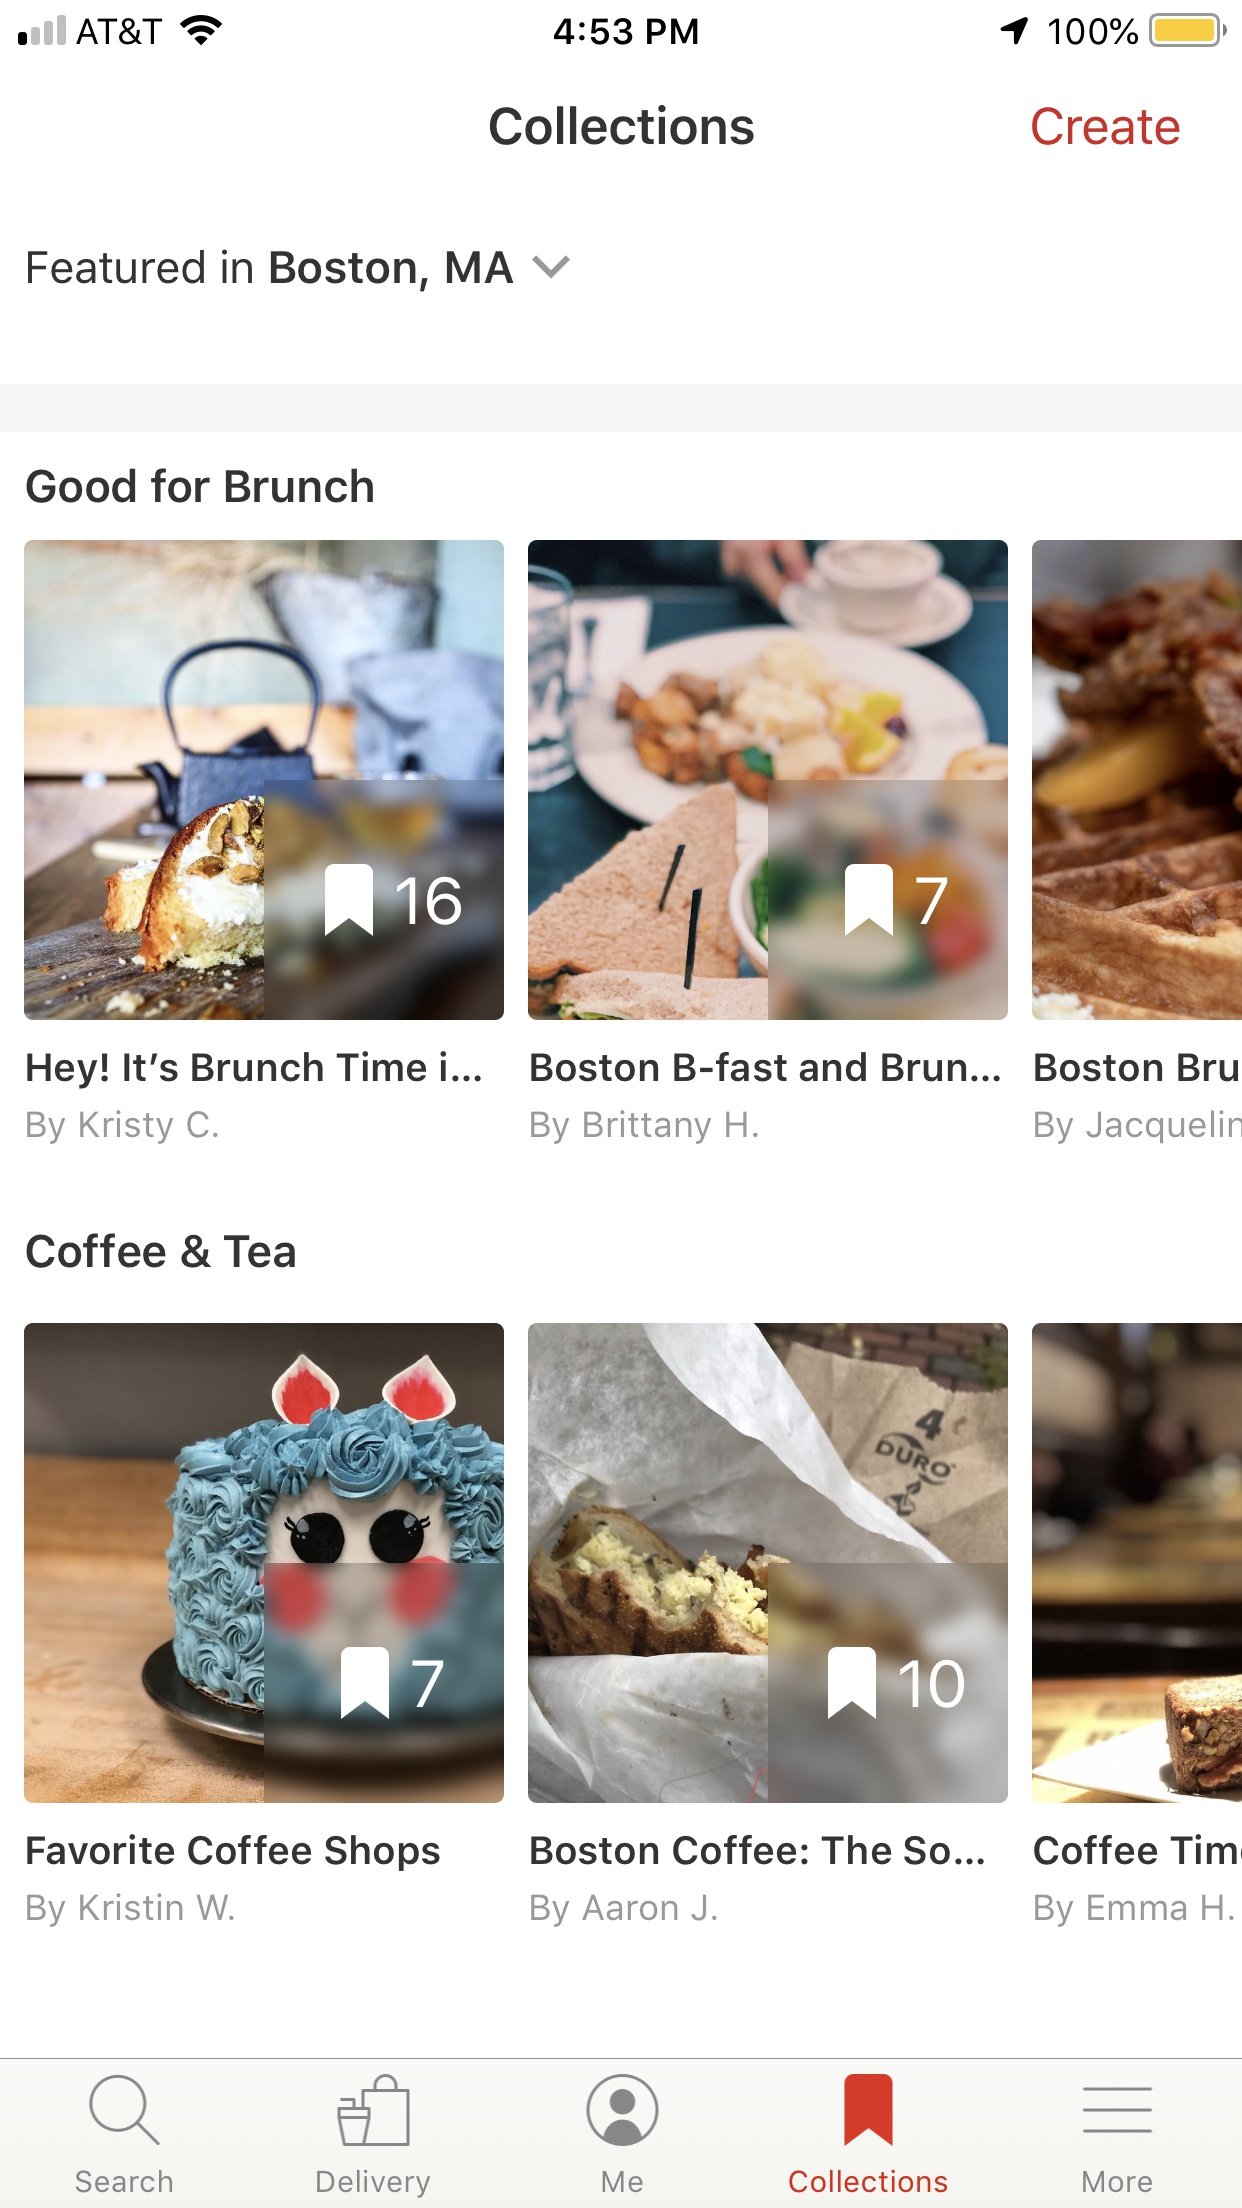Icon: (337, 2073, 411, 2147), (585, 2073, 660, 2146), (89, 2075, 162, 2146), (325, 863, 375, 939), (845, 2073, 895, 2147), (845, 864, 895, 937), (341, 1647, 390, 1721), (828, 1645, 877, 1720), (1081, 2085, 1153, 2134), (532, 255, 572, 281)
Image: (528, 1322, 1008, 1805), (24, 1322, 505, 1805), (24, 540, 505, 1021), (528, 540, 1008, 1021), (1031, 1322, 1242, 1805), (1033, 540, 1242, 1021)
Text: (27, 250, 516, 294), (26, 1049, 482, 1090), (27, 1833, 441, 1871), (529, 1051, 1001, 1083), (531, 1835, 986, 1865), (26, 467, 375, 505), (488, 105, 755, 147), (26, 1233, 297, 1269), (531, 1110, 760, 1146), (1034, 1109, 1242, 1146), (27, 1893, 237, 1927), (1034, 1893, 1234, 1927), (27, 1110, 218, 1146), (1034, 1833, 1242, 1865), (531, 1893, 717, 1927), (1034, 1052, 1239, 1083), (1030, 108, 1180, 147), (789, 2169, 948, 2193), (317, 2169, 432, 2199), (899, 1659, 964, 1709), (397, 877, 463, 927), (74, 2169, 173, 2193), (914, 877, 948, 927), (1083, 2170, 1153, 2193), (412, 1659, 444, 1708), (602, 2170, 645, 2193)
UpperTaskBar: (2, 2, 1242, 49)
